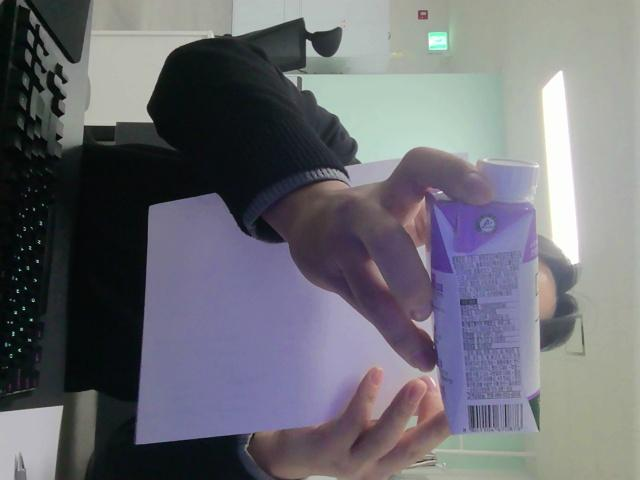milk: (431, 158, 540, 434)
